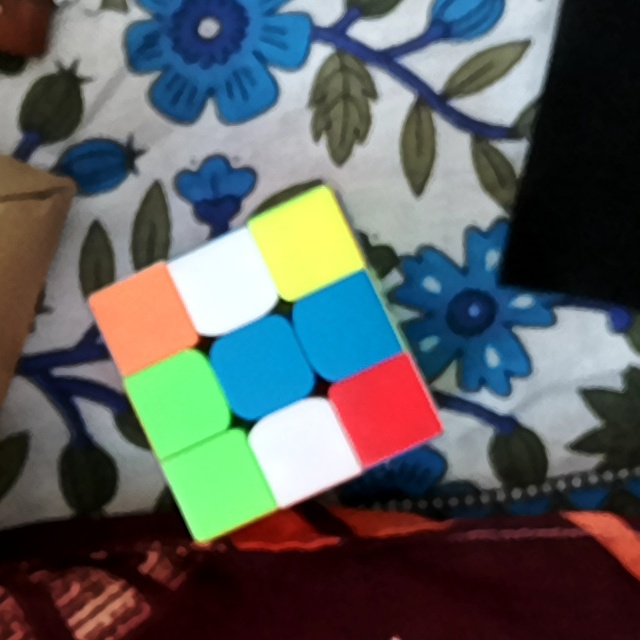tile: (312, 295, 378, 362), (233, 333, 297, 395), (149, 371, 213, 433), (356, 377, 418, 441), (275, 211, 337, 274), (190, 256, 255, 316), (193, 450, 252, 516), (115, 288, 173, 347), (274, 418, 331, 478)
